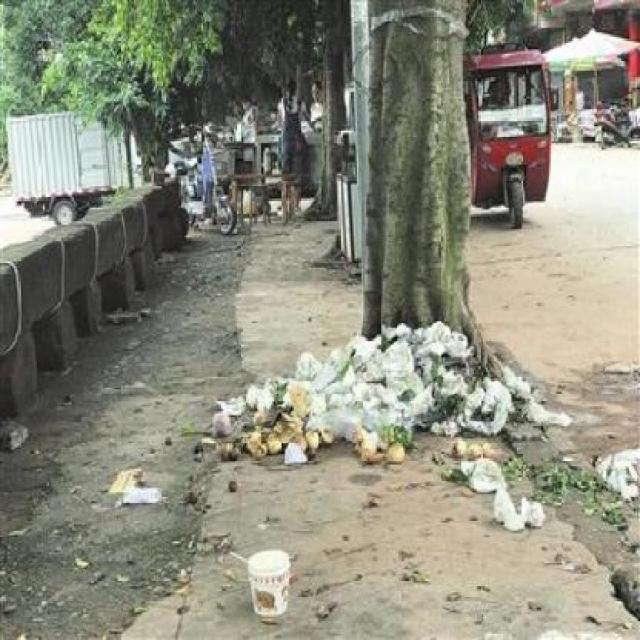garbage: (214, 343, 515, 458), (457, 457, 542, 523), (231, 532, 290, 616), (553, 454, 639, 495), (111, 463, 172, 510), (515, 377, 562, 426)
